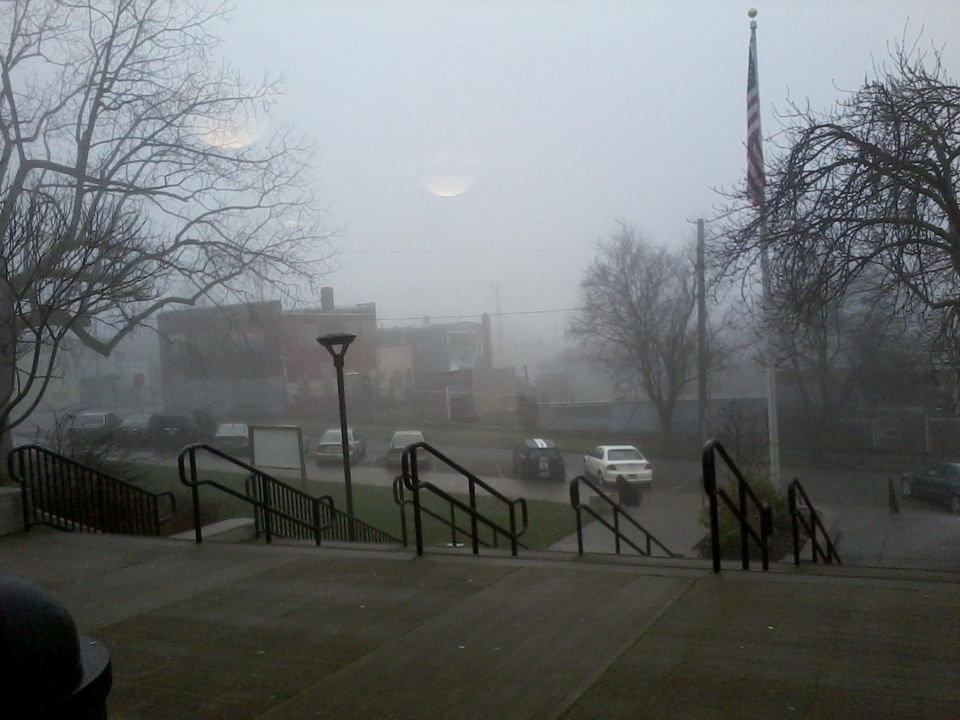car: (581, 444, 655, 490), (898, 460, 960, 513), (511, 438, 567, 484), (315, 426, 367, 467), (67, 411, 123, 448), (385, 430, 432, 471), (153, 414, 198, 452), (114, 414, 159, 450), (214, 423, 255, 459)
